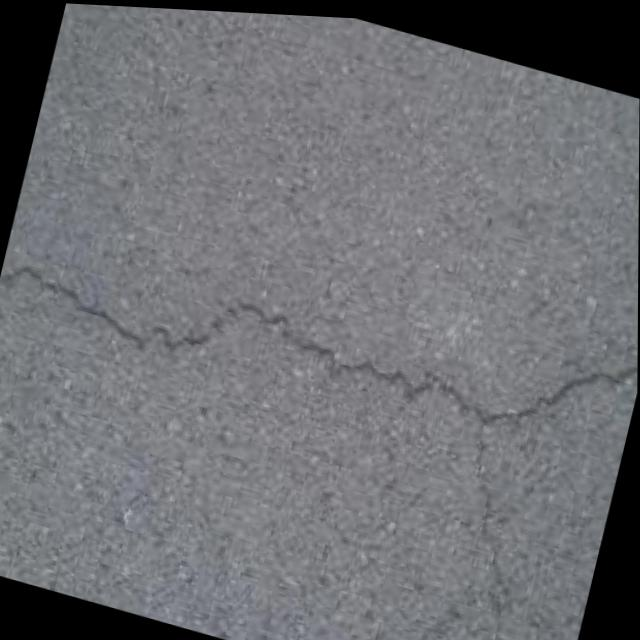Crack: (0, 176, 639, 495)
